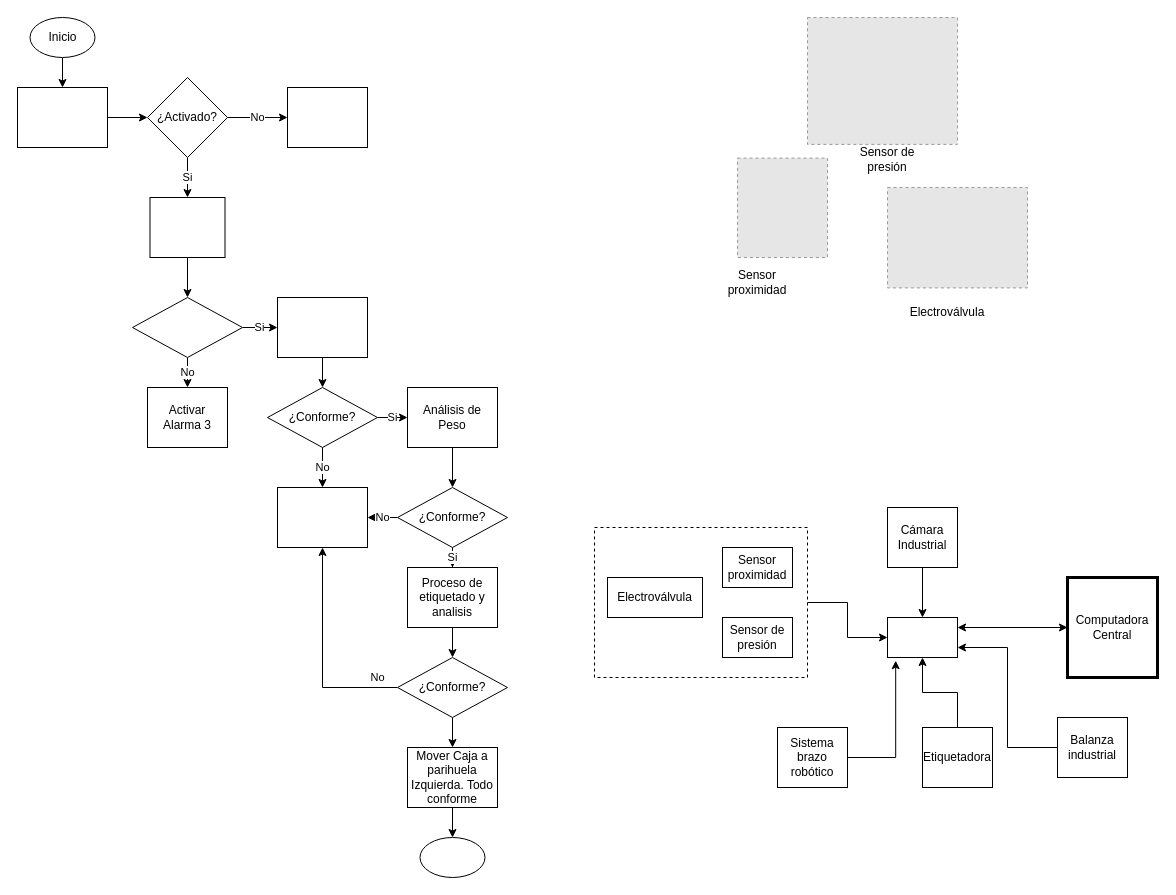
Image size: 1176x895. Some labels were removed from this diagram. Grey dashed boxes stand in for pictures. Each missing label, with the centre of its shape:
Activar Alarma (1 o 2): [327,117]
Análisis de Caras: [322,327]
Fin: [452,857]
Inicia Ciclo Robot: [187,227]
Mover Caja a parihuela Derecha: [322,517]
PLC: [922,637]
Sensado de parihuelas: [62,117]
¿Presencia de Caja?: [187,327]
